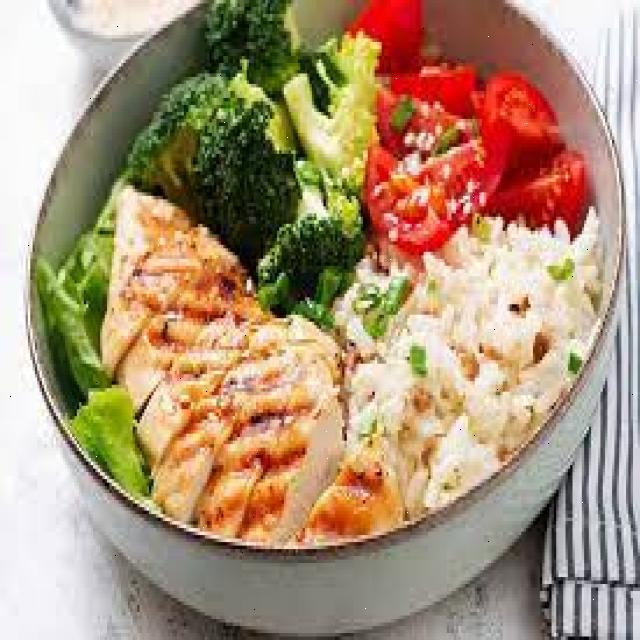Chicken: (100, 189, 400, 542)
Green veg: (121, 0, 377, 322), (37, 178, 149, 493)
Non green veg: (356, 0, 586, 255)
Rice: (305, 210, 603, 535)
